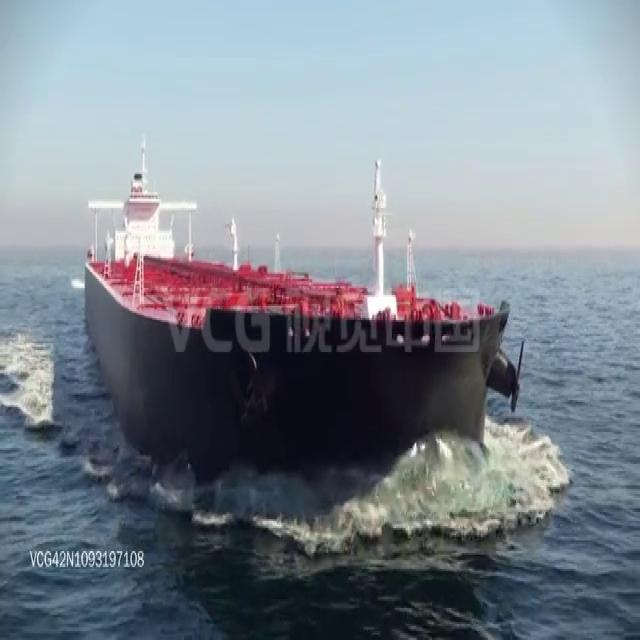cargoship: (85, 139, 509, 477)
